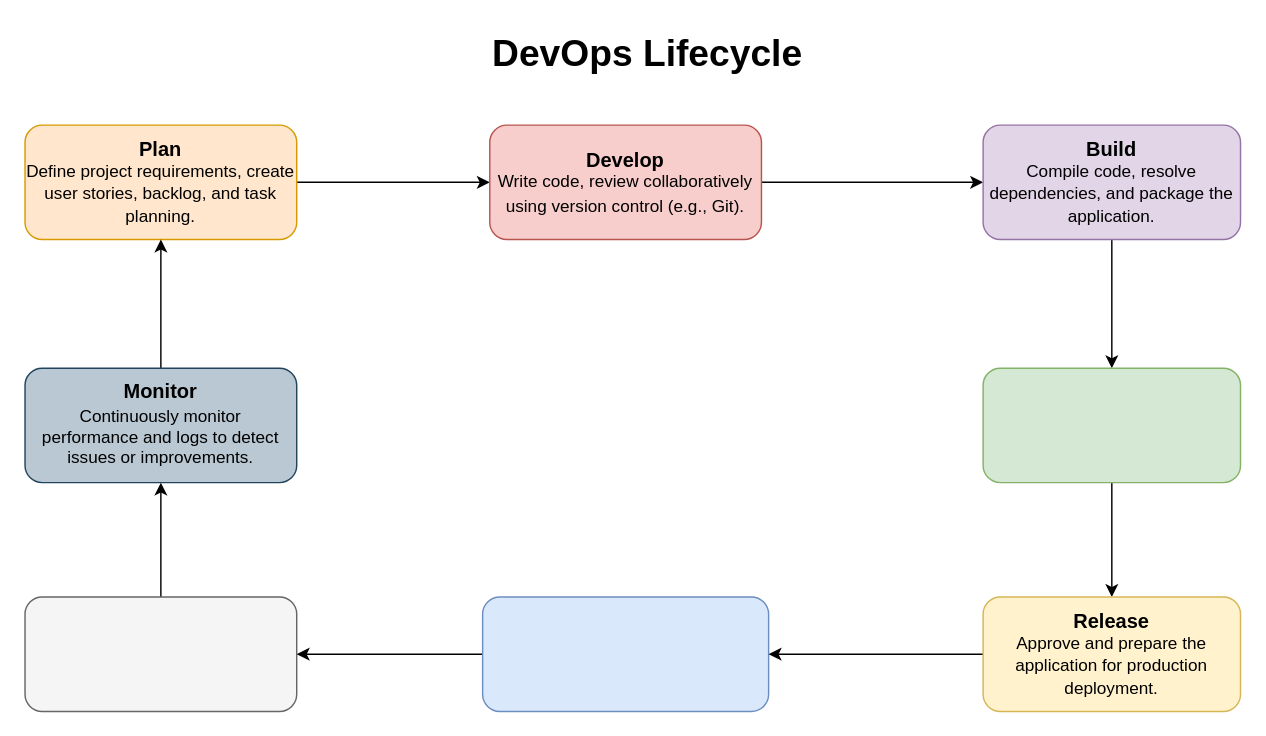
Some shapes in this 1266 by 736 pixel diagram are drawn without their labels. The box of each missing label's shape, as (x1, y1, x2, y2) in pixels:
Deploy Deploy the app to production using CI/CD tools (e.g., Jenkins, Vercel).: (481, 596, 769, 711)
Operate Ensure the app runs smoothly; manage configuration, performance, etc.: (24, 596, 297, 711)
Test Run automated/manual tests to check for bugs and quality issues.: (982, 367, 1241, 483)
